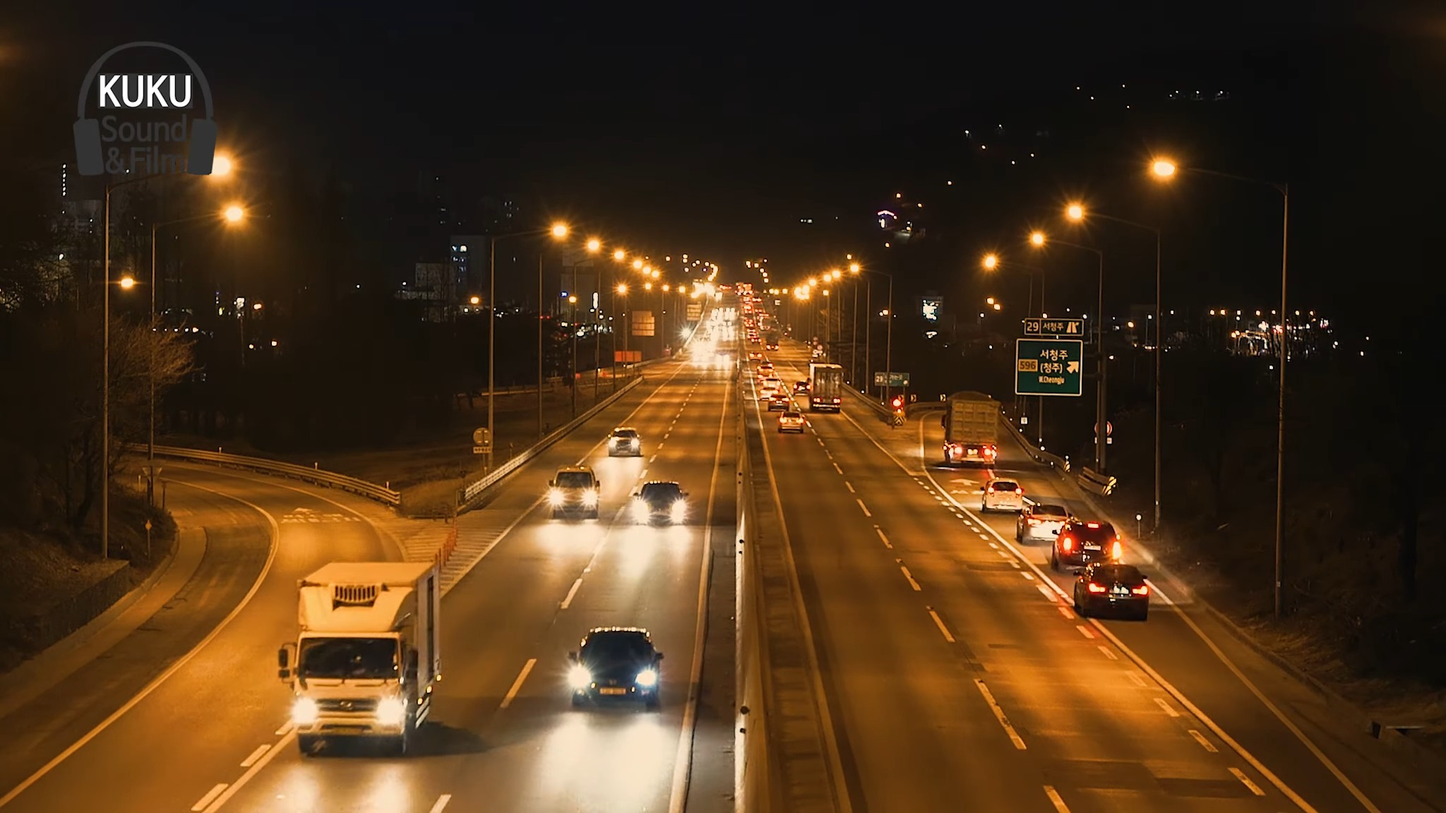car: (572, 630, 661, 711), (1077, 561, 1155, 620), (544, 466, 599, 521), (629, 482, 692, 526), (1056, 523, 1113, 566), (608, 420, 637, 460)
truck: (286, 558, 441, 756)
